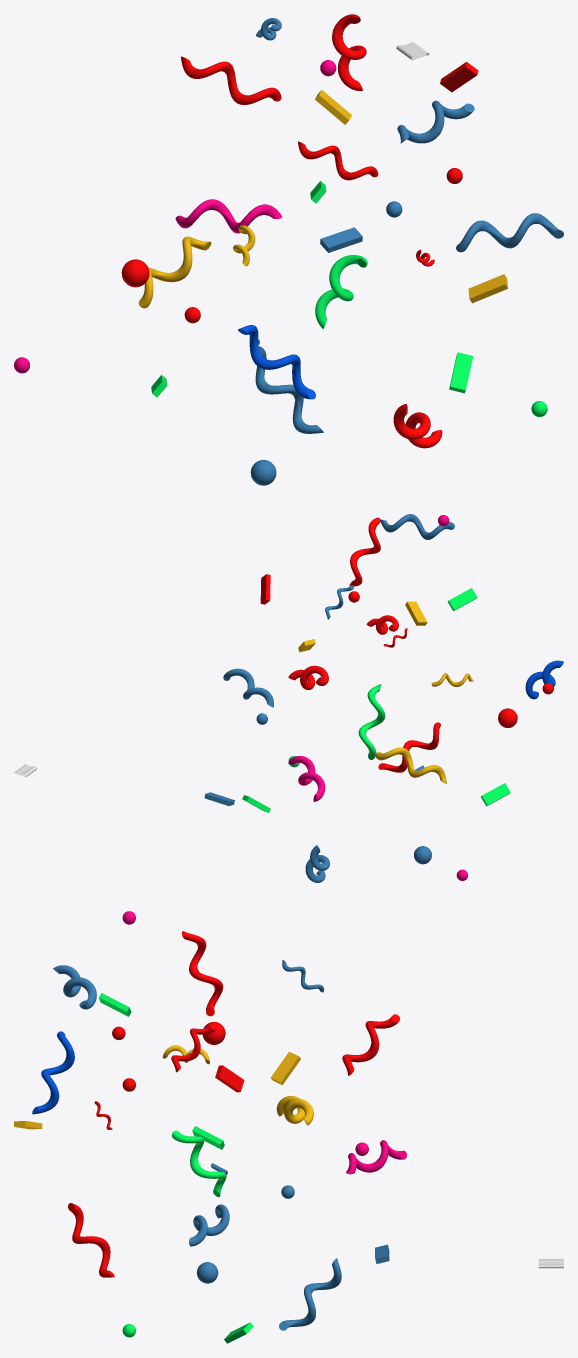
File: confetti.glb
3 views of the same model, one above another, from view 1: azimuth 30°, elevation 25°; view 2: azimuth 150°, elevation 25°; view 3: azimuth 270°, elevation 25° (orthographic). The views are drawn at different scales.
Visible parts, largest first — view 1: pCylinder18_32, pCylinder12_26, pCylinder19_33, pCylinder11_25, pCylinder17_31, pCylinder14_28, pCylinder13_27, pCylinder20_34, pCylinder16_30, pCylinder15_29, pCylinder22_36, pCube22_20 (+4 smaller); view 2: pCylinder20_34, pCylinder13_27, pCylinder14_28, pCylinder11_25, pCylinder16_30, pCylinder17_31, pCylinder12_26, pCylinder18_32, pCylinder15_29, pCylinder19_33; view 3: pCylinder19_33, pCylinder15_29, pCylinder14_28, pCylinder17_31, pCylinder13_27, pCylinder12_26, pCylinder16_30, pCylinder20_34, pCylinder18_32, pCylinder11_25, pCylinder22_36.
Part boxes in pixels (x1,y1,x2,y2): pCylinder18_32: (456, 213, 563, 252); pCylinder12_26: (180, 56, 281, 104); pCylinder19_33: (238, 325, 315, 399); pCylinder11_25: (175, 199, 282, 233); pCylinder17_31: (393, 404, 442, 448); pCylinder14_28: (332, 14, 366, 91); pCylinder13_27: (315, 255, 367, 329); pCylinder20_34: (138, 236, 211, 308); pCylinder16_30: (397, 100, 474, 143); pCylinder15_29: (255, 346, 323, 433); pCylinder22_36: (298, 141, 378, 180); pCube22_20: (449, 352, 473, 393); pCylinder20_34: (375, 747, 446, 783); pCylinder13_27: (358, 684, 385, 759); pCylinder14_28: (349, 517, 380, 586); pCylinder11_25: (288, 756, 325, 801); pCylinder16_30: (380, 514, 454, 539); pCylinder17_31: (378, 722, 440, 772); pCylinder12_26: (288, 665, 328, 689); pCylinder18_32: (223, 668, 273, 707); pCylinder15_29: (305, 845, 329, 882); pCylinder19_33: (525, 660, 563, 699); pCylinder19_33: (32, 1031, 74, 1114); pCylinder15_29: (279, 1258, 341, 1330); pCylinder14_28: (182, 931, 223, 1016); pCylinder17_31: (68, 1203, 114, 1277); pCylinder13_27: (171, 1130, 226, 1197); pCylinder12_26: (342, 1014, 399, 1075); pCylinder16_30: (53, 965, 96, 1009); pCylinder20_34: (276, 1095, 313, 1125); pCylinder18_32: (189, 1204, 229, 1246); pCylinder11_25: (346, 1140, 406, 1174); pCylinder22_36: (171, 1023, 217, 1072).
Size of the model in its own units: 9.7 by 8.33 by 10.66.
